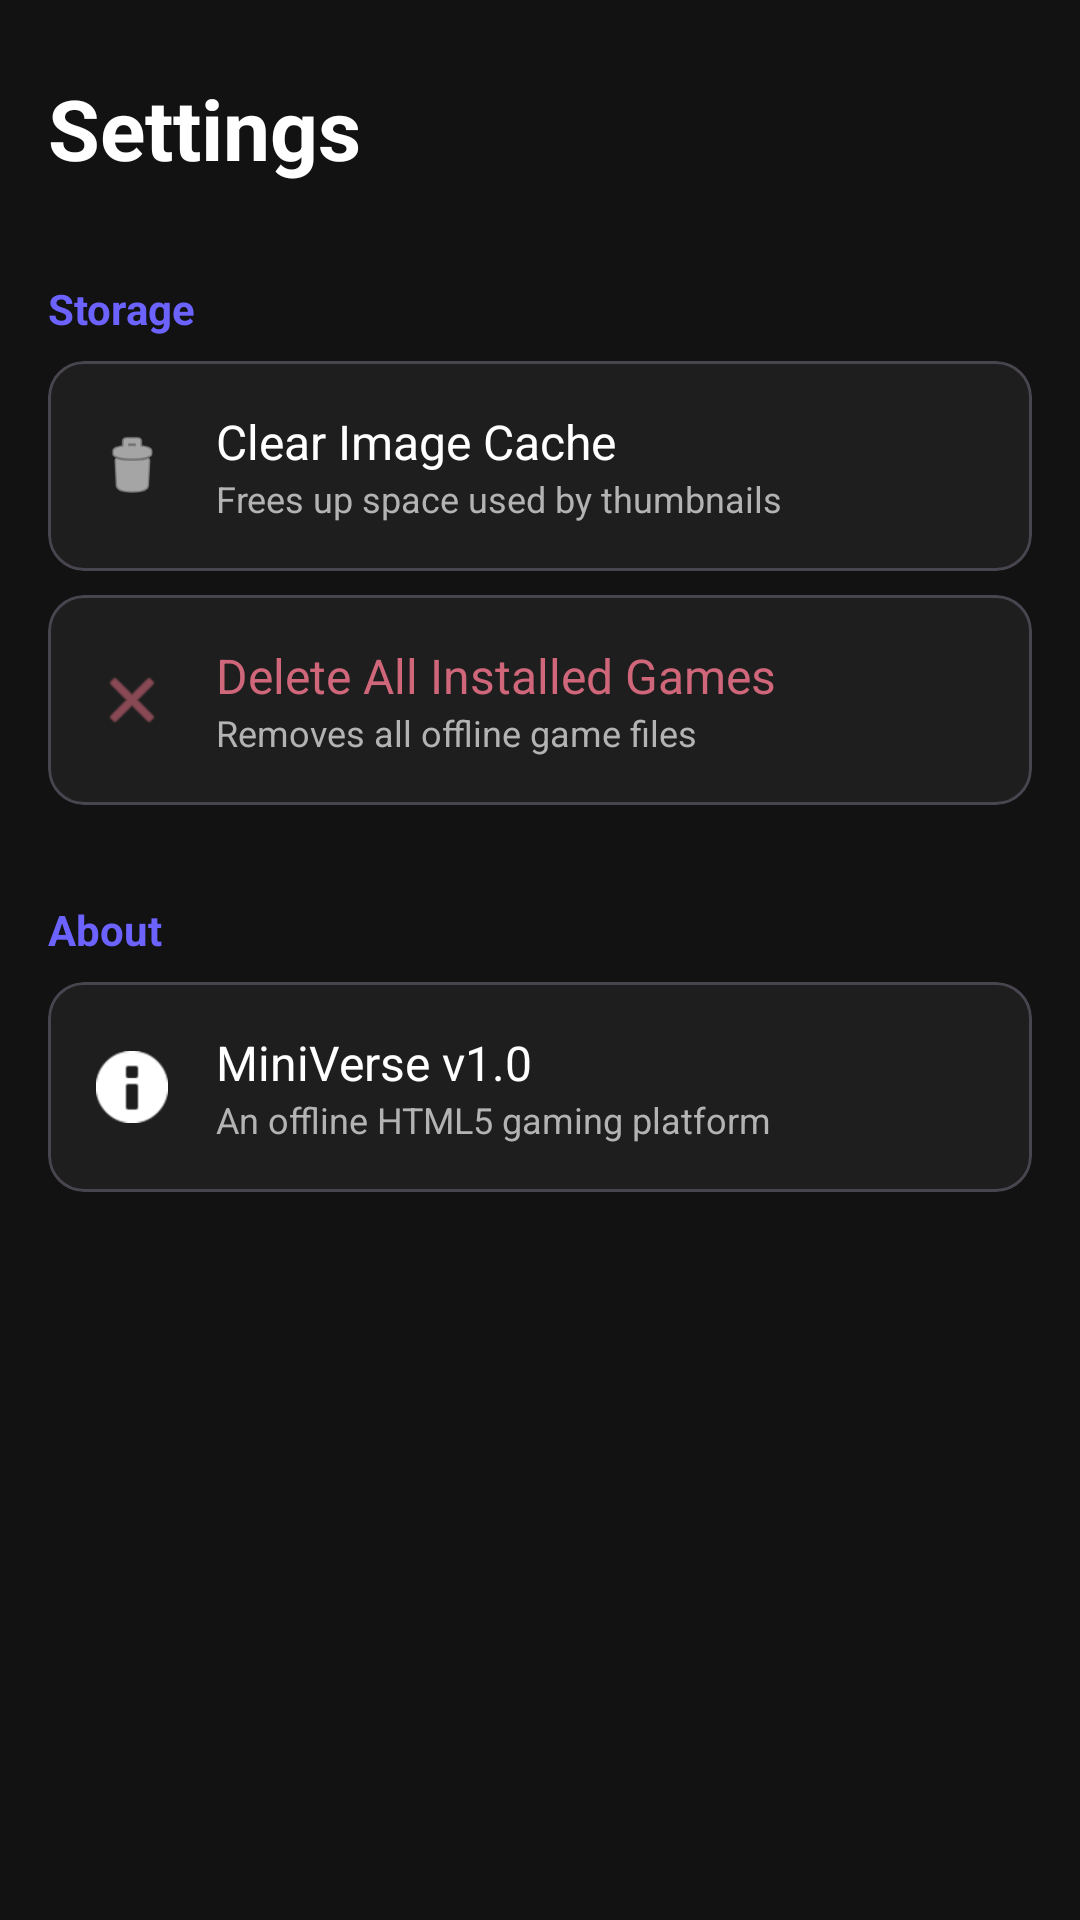

Where to tap for icons on this 1080*1920 app screen, as (x,y):
close clear cancel: (132,700)
info: (132,1087)
